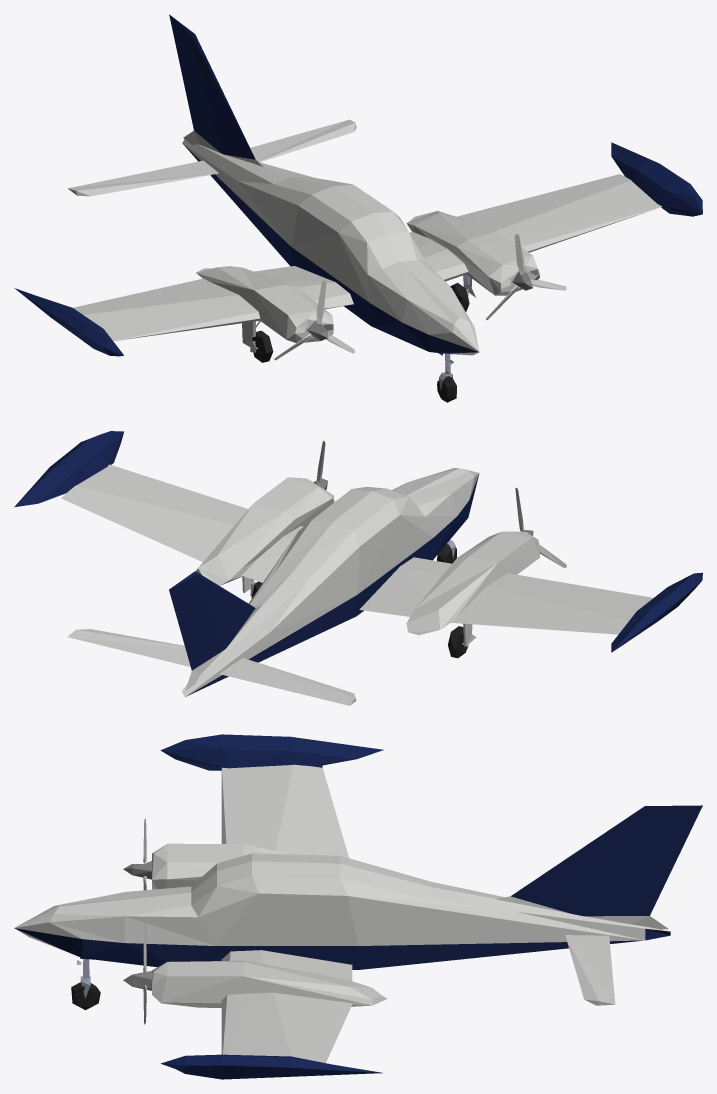
The model's file is cessna310.livery-v1.lod2.glb.
3 views of the same model, one above another, from view 1: azimuth 30°, elevation 25°; view 2: azimuth 150°, elevation 25°; view 3: azimuth 270°, elevation 25° (orthographic). The views are drawn at different scales.
Parts seen in each view (by area): view 1: Cube__0; view 2: Cube__0; view 3: Cube__0.
Part boxes in pixels (left/top/right/bottom): Cube__0: left=14, top=14, right=702, bottom=402; Cube__0: left=14, top=431, right=702, bottom=705; Cube__0: left=14, top=734, right=702, bottom=1079.
Bounding box in the file's own units: 11.3 × 3.24 × 9.97.
